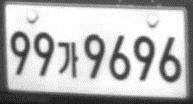6: (158, 36, 181, 83), (108, 34, 131, 80)
9: (133, 35, 156, 82), (33, 32, 55, 76), (84, 33, 105, 79), (10, 30, 31, 75)
가: (57, 41, 80, 78)
